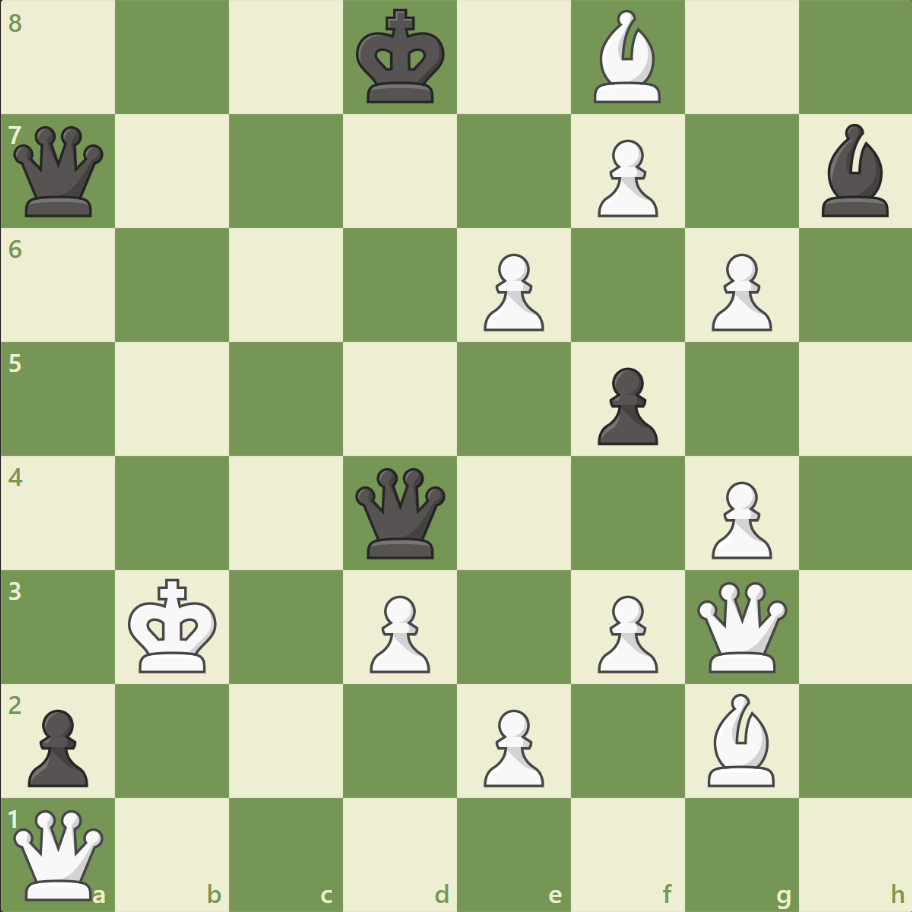B: (585, 6, 669, 109), (698, 687, 782, 790)
K: (124, 571, 224, 679)
P: (474, 246, 549, 337), (701, 246, 776, 337), (701, 473, 776, 564), (474, 700, 549, 791), (588, 132, 662, 223), (361, 586, 435, 677), (588, 586, 662, 677)
Q: (691, 576, 790, 676), (10, 804, 109, 903)
b: (812, 120, 896, 222)
k: (351, 4, 451, 112)
p: (20, 700, 95, 791), (588, 359, 662, 450)
q: (10, 122, 109, 222), (351, 463, 450, 562)
